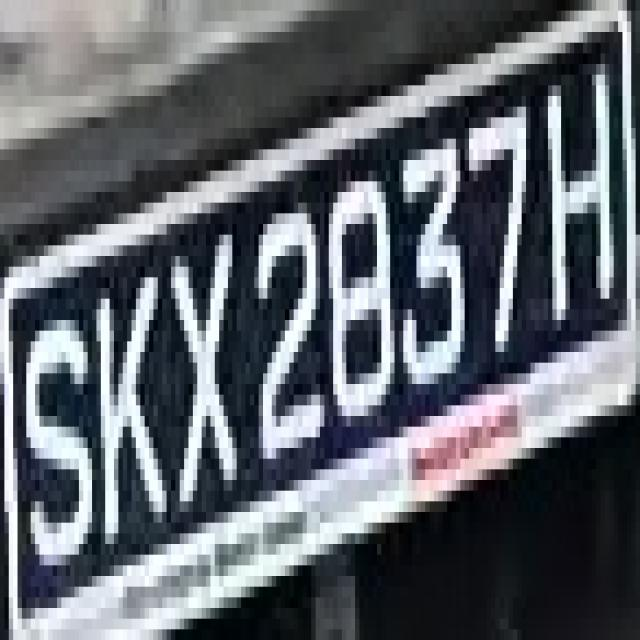2: (246, 149, 324, 480)
3: (381, 118, 469, 438)
7: (460, 107, 535, 373)
8: (320, 160, 403, 480)
H: (535, 64, 622, 352)
K: (88, 235, 171, 554)
S: (13, 277, 101, 576)
X: (149, 202, 246, 554)
